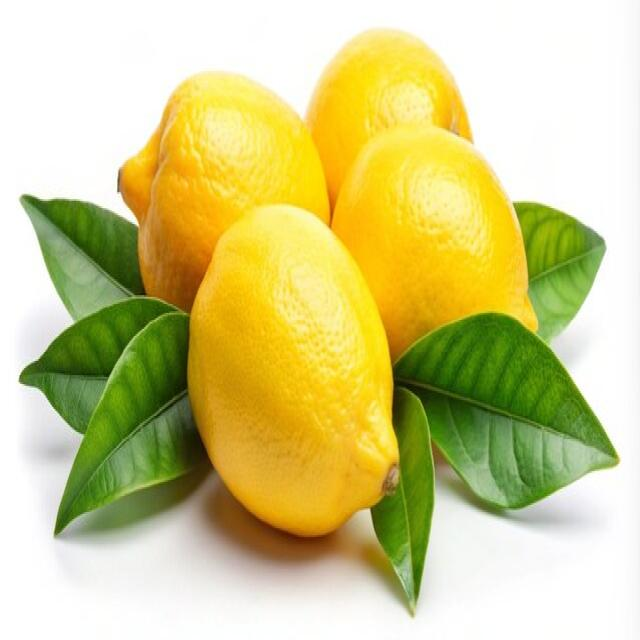Lemon: (186, 201, 400, 537), (117, 67, 331, 313), (330, 119, 538, 365), (303, 25, 473, 210)
